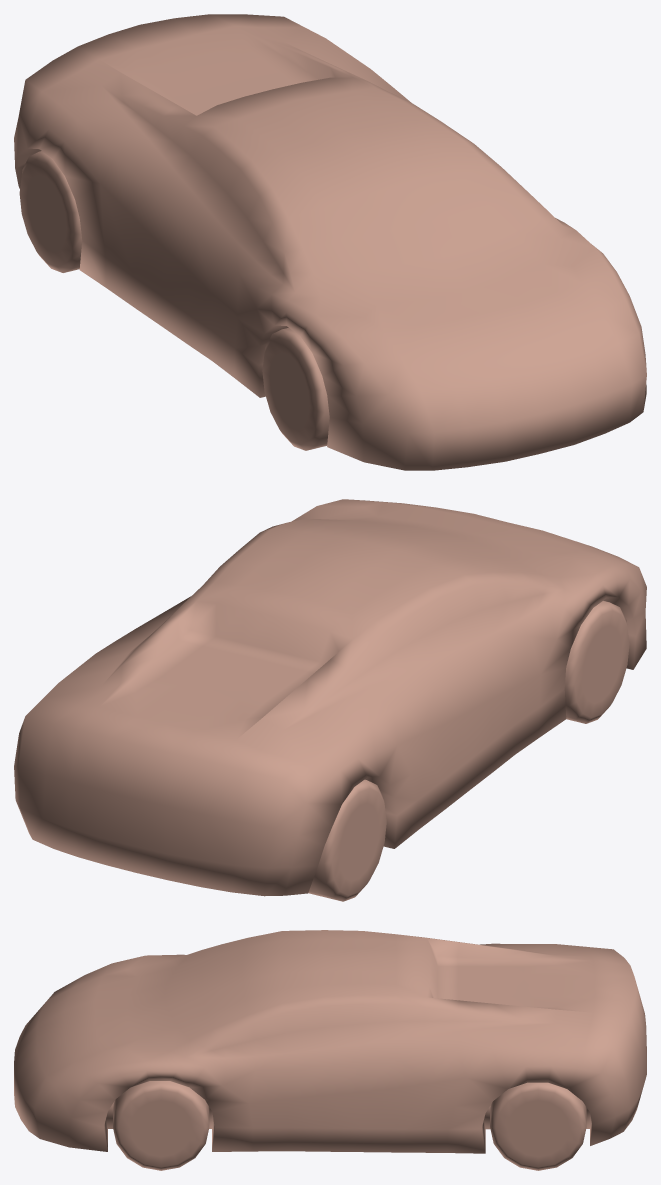
File: Sports Car.fbx
3 views of the same model, one above another, from view 1: azimuth 30°, elevation 25°; view 2: azimuth 150°, elevation 25°; view 3: azimuth 270°, elevation 25° (orthographic). The views are drawn at different scales.
Visible parts, largest first — view 1: SportsCar:sportCar, SportsCar:wheel_front_right, SportsCar:wheel_rear_right; view 2: SportsCar:sportCar, SportsCar:wheel_rear_right, SportsCar:wheel_front_right; view 3: SportsCar:sportCar, SportsCar:wheel_front_left, SportsCar:wheel_rear_left.
Part boxes in pixels (x1,y1,x2,y2): SportsCar:sportCar: (14, 14, 646, 470); SportsCar:wheel_front_right: (262, 327, 329, 450); SportsCar:wheel_rear_right: (19, 151, 82, 272); SportsCar:sportCar: (14, 499, 646, 896); SportsCar:wheel_rear_right: (308, 779, 386, 901); SportsCar:wheel_front_right: (564, 601, 629, 723); SportsCar:sportCar: (14, 930, 646, 1153); SportsCar:wheel_front_left: (113, 1081, 209, 1170); SportsCar:wheel_rear_left: (490, 1082, 586, 1170).
Bounding box in the file's own units: 191 × 116 × 428.
